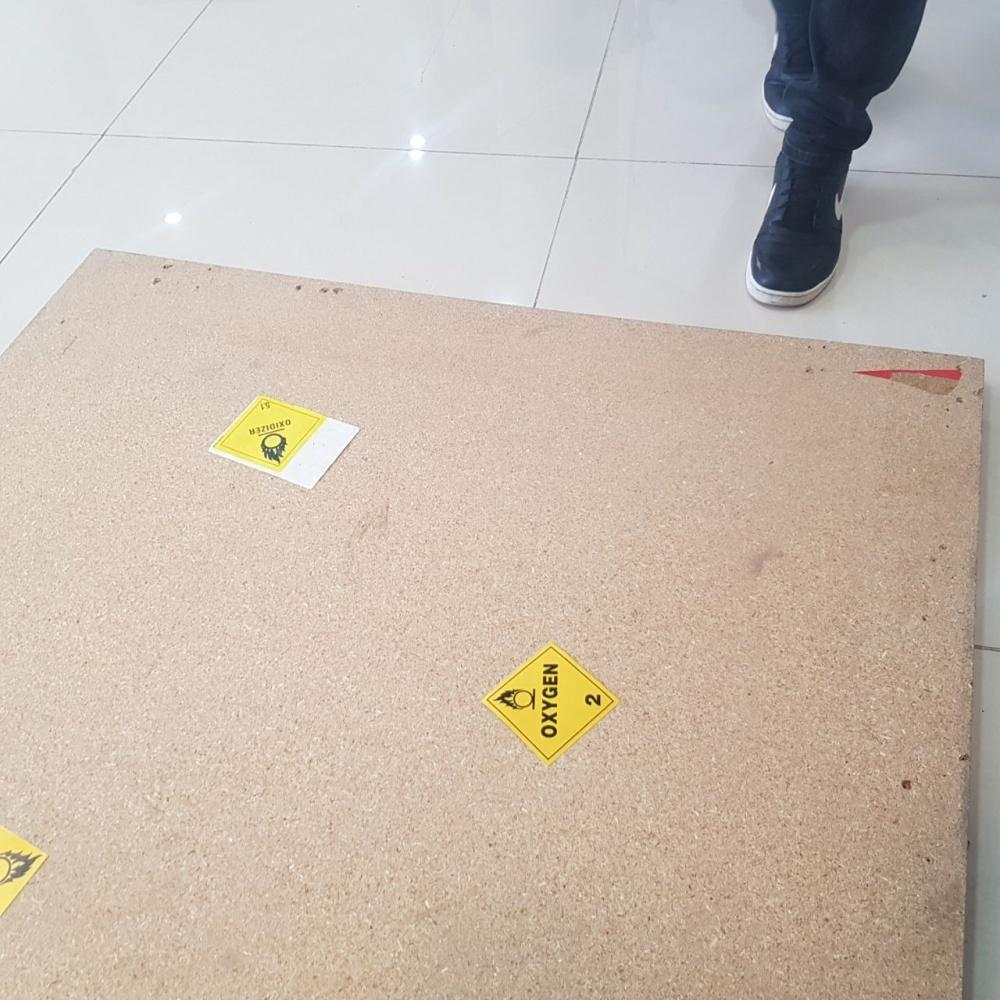oxidizer: (473, 641, 628, 765), (209, 395, 328, 478)
